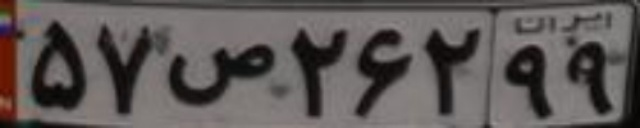2: (286, 26, 350, 117), (421, 25, 481, 116)
5: (28, 18, 84, 110)
6: (357, 27, 412, 118)
7: (99, 21, 153, 115)
9: (564, 39, 615, 116), (502, 44, 554, 118)
saat: (163, 41, 277, 104)
